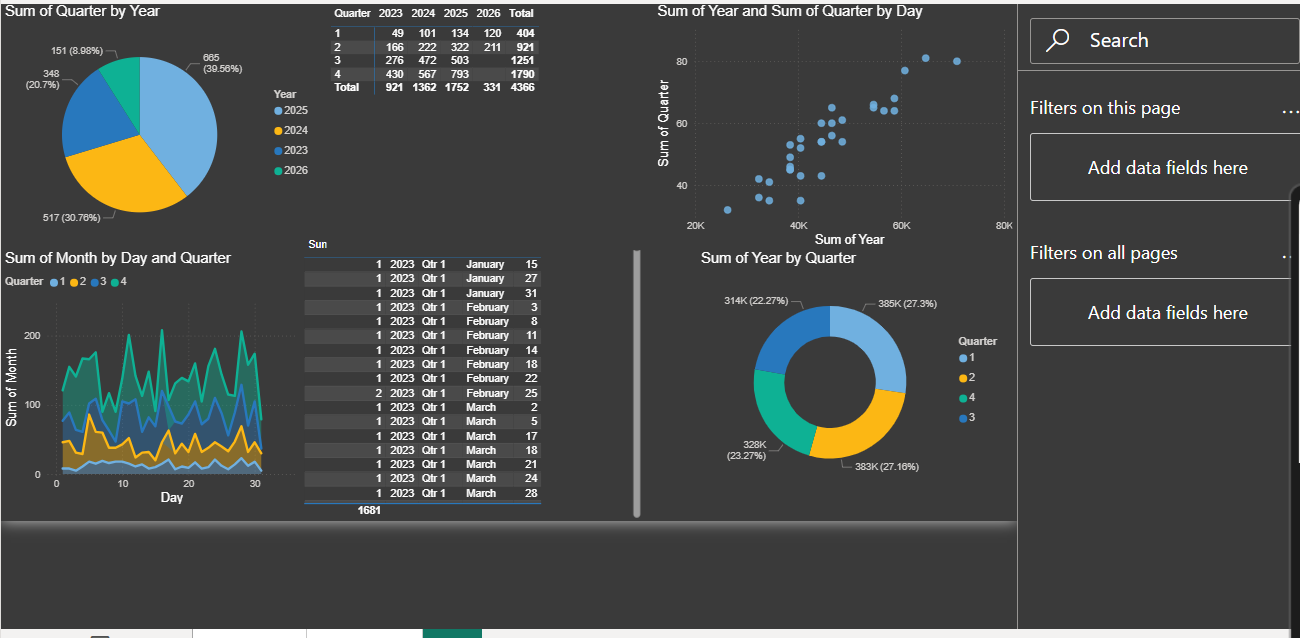

Layout of this report page (visuals, bound fields, positions):
{"tool":"powerbi","page":{"name":"Page 2","canvas":[1280,720],"ordinal":1},"visuals":[{"type":"pieChart","fields":{"Y":["Sum(interactions.Quarter)"],"Category":["interactions.Year"]},"box":[0,66.1,400.6,311.8],"z":0},{"type":"tableEx","fields":{"Values":["Sum(interactions.Quarter)","interactions.timestamp.Variation.Date Hierarchy.Year","interactions.timestamp.Variation.Date Hierarchy.Quarter","interactions.timestamp.Variation.Date Hierarchy.Month","interactions.timestamp.Variation.Date Hierarchy.Day"]},"box":[376.1,357.2,434.6,362.8],"z":1000},{"type":"pivotTable","fields":{"Rows":["interactions.Quarter"],"Columns":["interactions.Year"],"Values":["Sum(interactions.Month)"]},"box":[411,66,401,312],"z":2000},{"type":"donutChart","fields":{"Category":["interactions.Quarter"],"Y":["Sum(interactions.Year)"]},"box":[876.9,378,402.5,311.8],"z":3000},{"type":"scatterChart","fields":{"X":["Sum(interactions.Year)"],"Y":["Sum(interactions.Quarter)"],"Category":["interactions.Day"]},"box":[822.1,66.1,457.3,311.8],"z":4000},{"type":"stackedAreaChart","fields":{"Category":["interactions.Day"],"Y":["Sum(interactions.Month)"],"Series":["interactions.Quarter"]},"box":[0,378,376,325],"z":5000}]}

Visuals, with their boxes on the page's 1280x720 design canvas (x1, y1, x2, y2). These are canvas units, not pixel positions in the 1300x638 screenshot, which may show the page scaled, cropped or inside an application window:
pieChart - Sum(interactions.Quarter) x interactions.Year: {"left": 0, "top": 66, "right": 401, "bottom": 378}
tableEx - Sum(interactions.Quarter) x interactions.timestamp.Variation.Date Hierarchy.Year: {"left": 376, "top": 357, "right": 811, "bottom": 720}
pivotTable - interactions.Quarter x interactions.Year: {"left": 411, "top": 66, "right": 812, "bottom": 378}
donutChart - interactions.Quarter x Sum(interactions.Year): {"left": 877, "top": 378, "right": 1279, "bottom": 690}
scatterChart - Sum(interactions.Year) x Sum(interactions.Quarter): {"left": 822, "top": 66, "right": 1279, "bottom": 378}
stackedAreaChart - interactions.Day x Sum(interactions.Month): {"left": 0, "top": 378, "right": 376, "bottom": 703}
